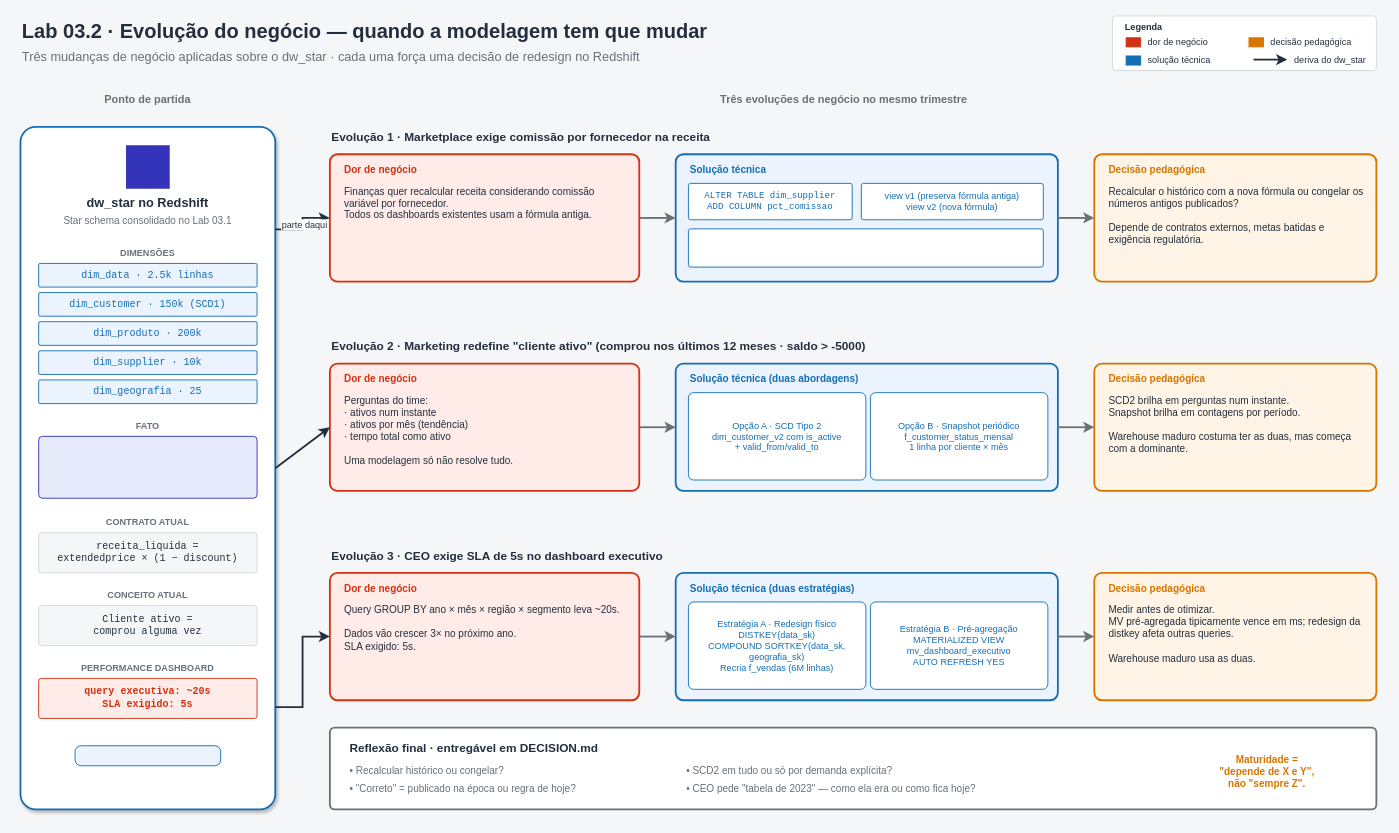
The diagram is 1399 pixels wide and 833 high, and some of its shapes have lost their labels. The centre of each missing label's shape, as x and y in pixels:
Estado inicial: (x=147, y=755)
f_vendas · 6M linhas DISTKEY(customer_sk) SORTKEY(data_sk): (x=147, y=466)
MATERIALIZED VIEW mv_receita_v2_mensal · AUTO REFRESH YES: (x=865, y=247)
